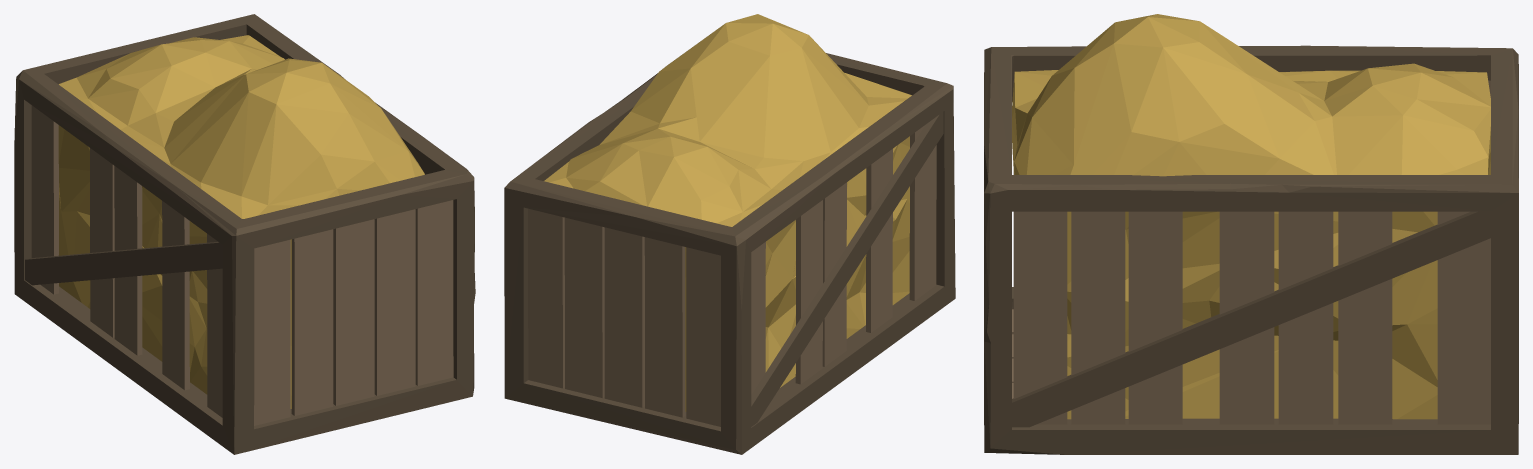
Rendered from wooden_box_b.FBX.
3 renders of one model, left to right at view 1: azimuth 30°, elevation 25°; view 2: azimuth 150°, elevation 25°; view 3: azimuth 270°, elevation 25°, orthographic. The views are drawn at different scales.
Visible parts, largest first — view 1: wooden_box_b; view 2: wooden_box_b; view 3: wooden_box_b.
Part boxes in pixels (x1,y1,x2,y2): wooden_box_b: (14,14,475,454); wooden_box_b: (504,14,955,454); wooden_box_b: (984,14,1518,454).
Size of the model in its own units: 0.9599 by 1.15 by 1.52.
